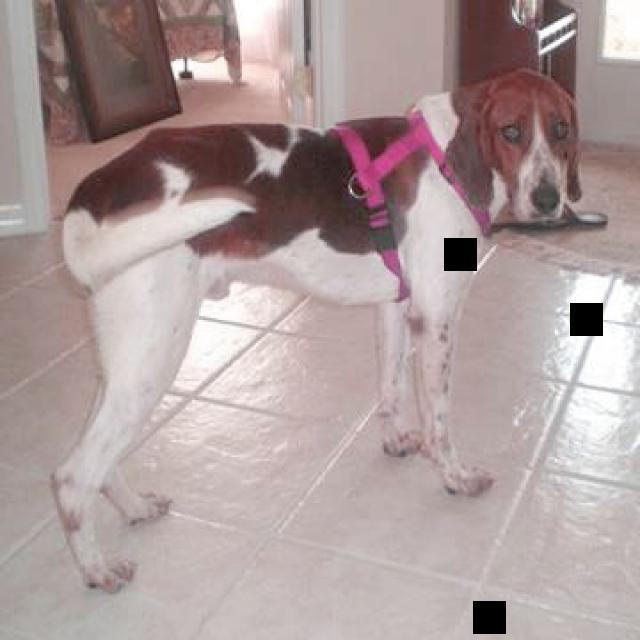adult_dog: (52, 70, 587, 595)
